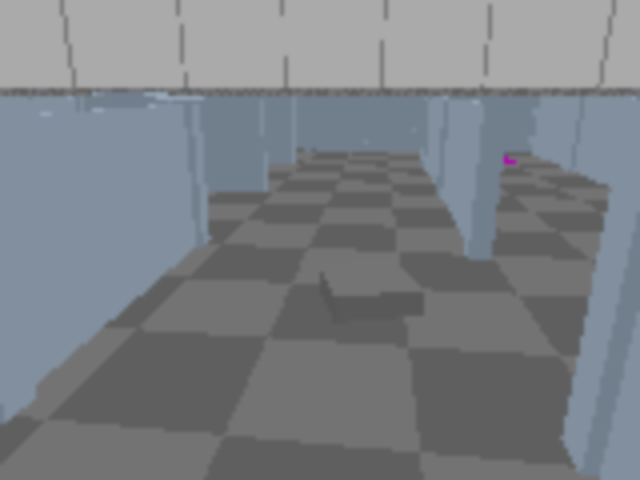obstacle: (318, 259, 424, 323)
